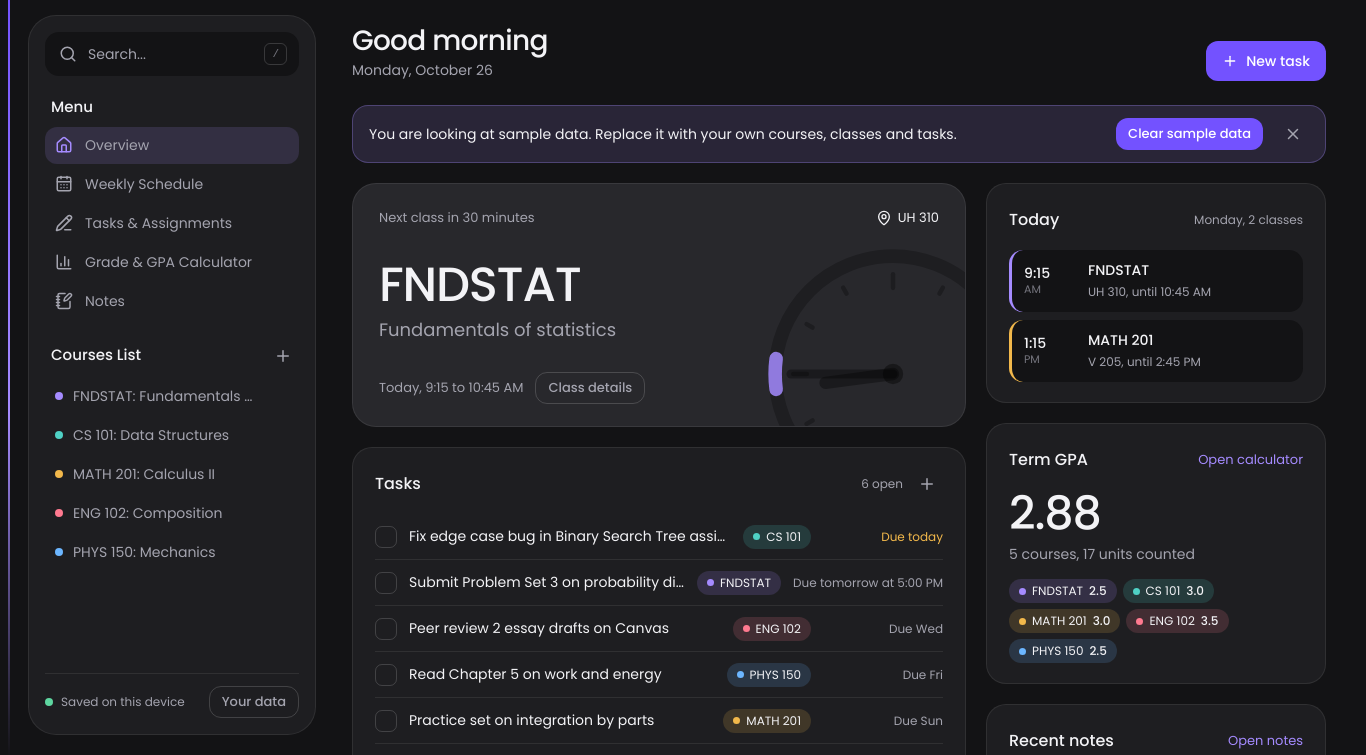
Scenario: Grades › projects a what-if final grade from the sliders
This screenshot has width=1366, height=755.
Click the link "Grade & GPA Calculator": (154, 262) top-left (55, 252), bottom-right (252, 272)
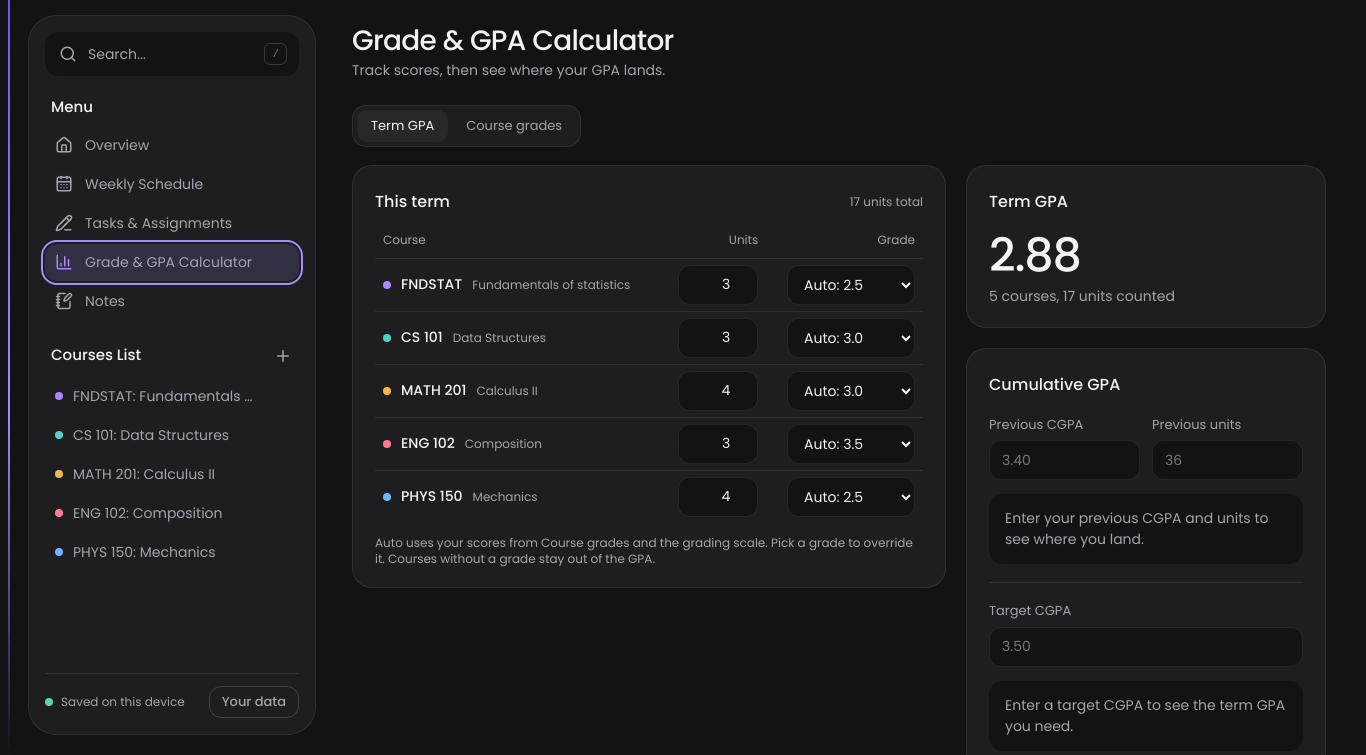
Click the tab "Course grades": (514, 126) top-left (452, 110), bottom-right (576, 142)
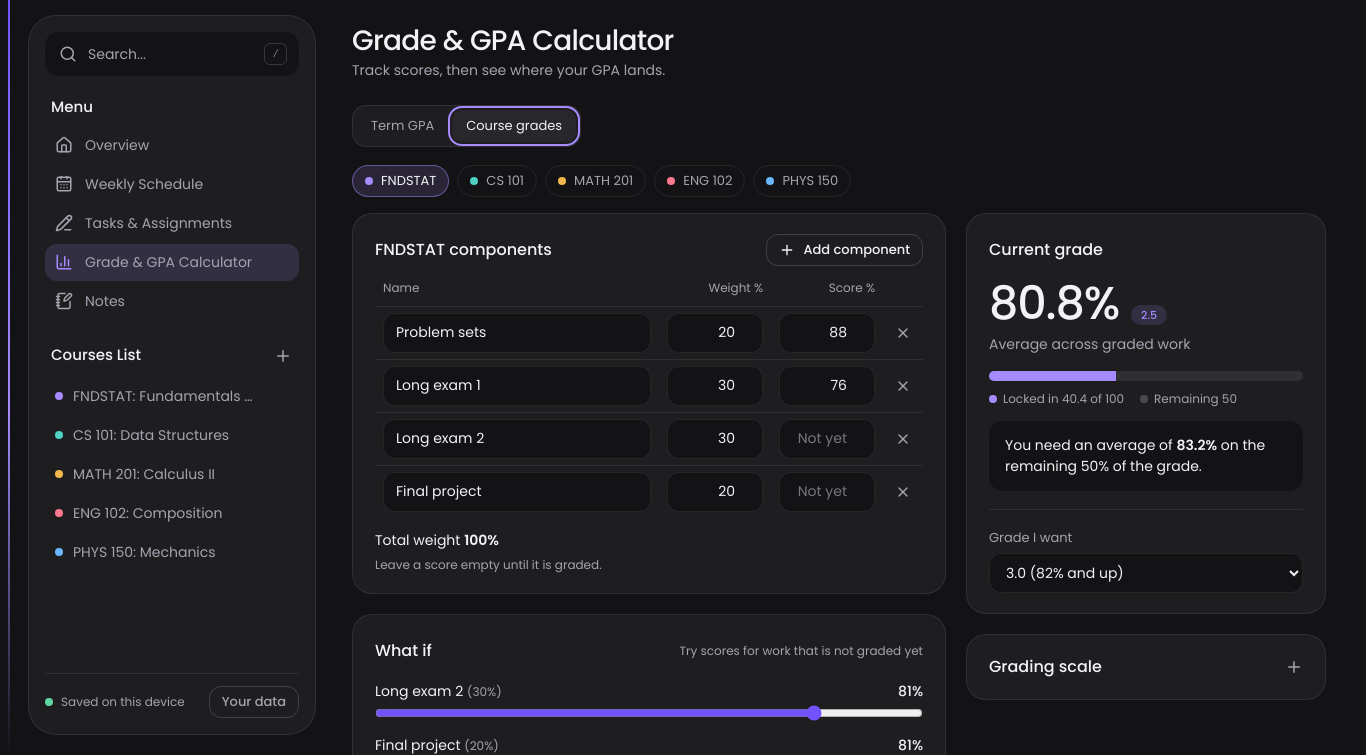
Click the button "FNDSTAT": (401, 180) top-left (352, 164), bottom-right (449, 196)
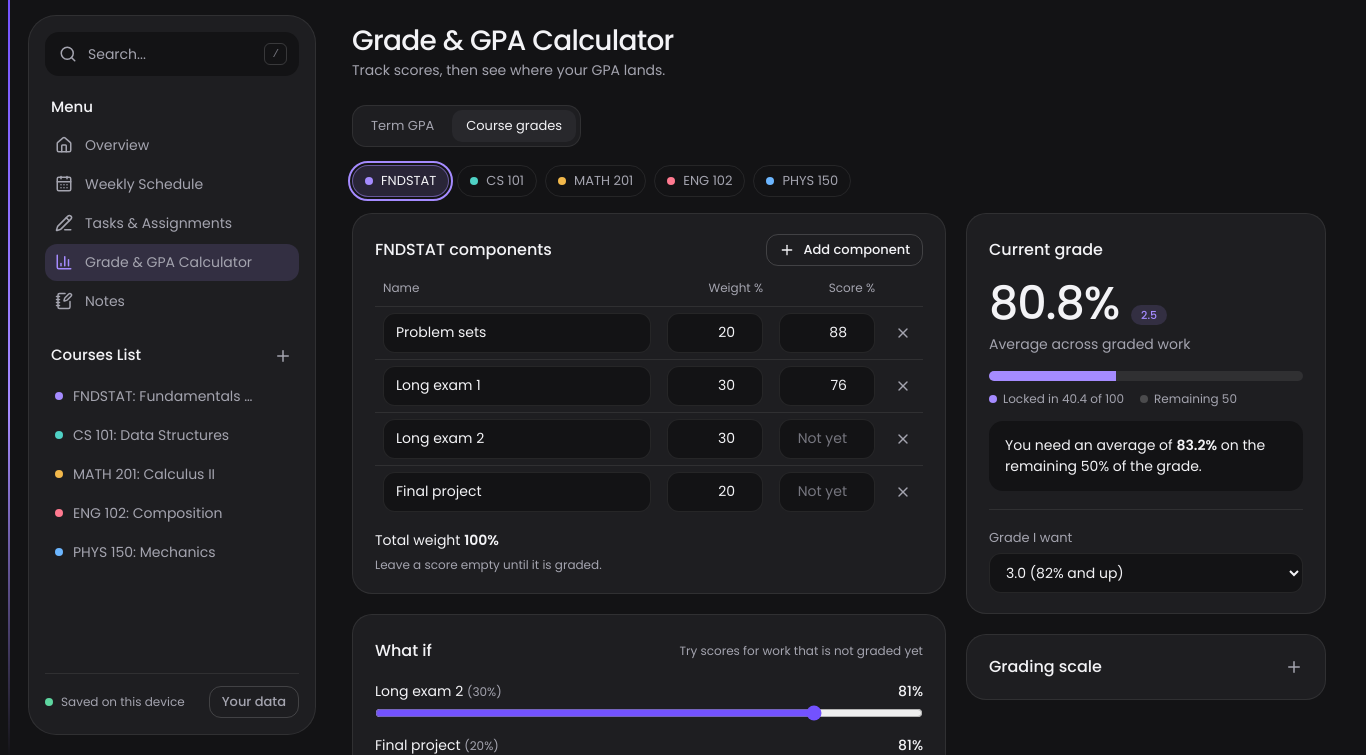
Set the slider labelled "Long exam 2 (30%)" to "100": (915, 712) top-left (375, 704), bottom-right (923, 720)
(page scrolled)
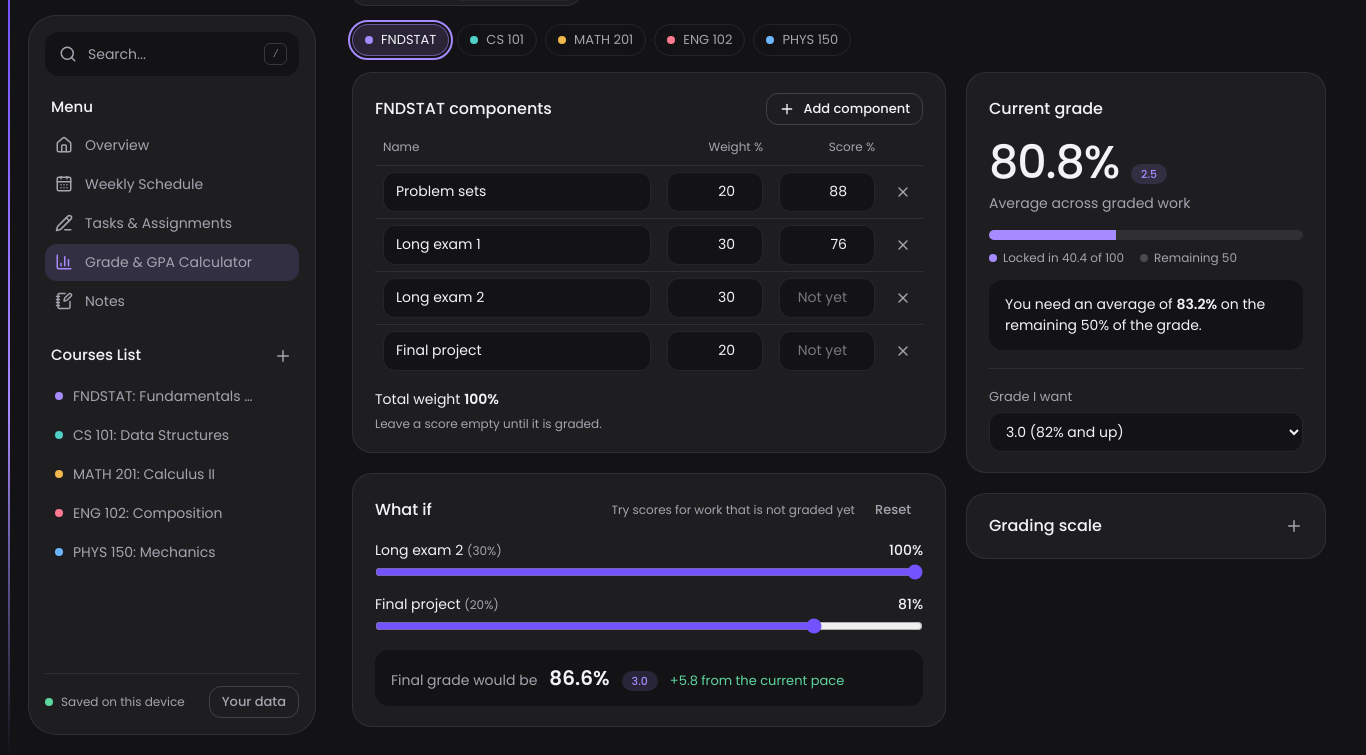
Set the slider labelled "Final project (20%)" to "100": (915, 626) top-left (375, 618), bottom-right (923, 634)
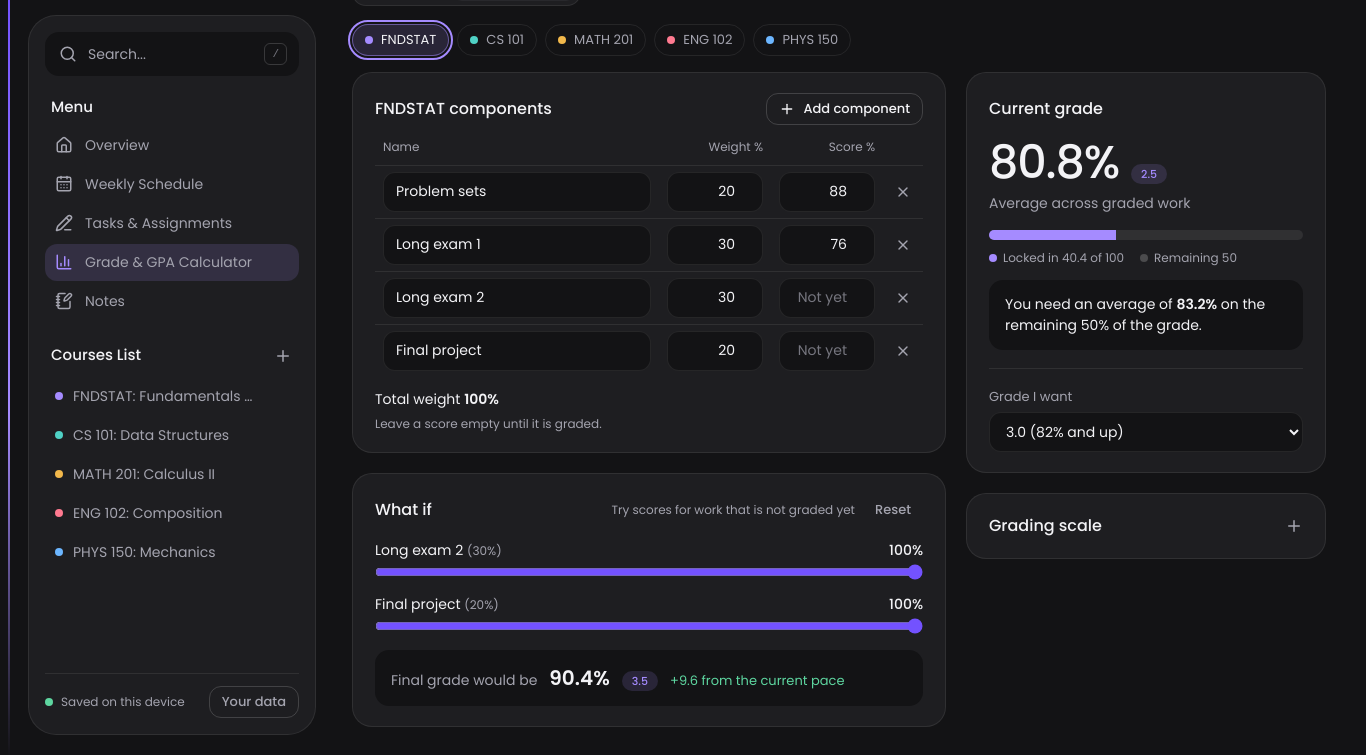
Check: the text "90.4%" is shown, box top-left (549, 664), bottom-right (610, 692)
